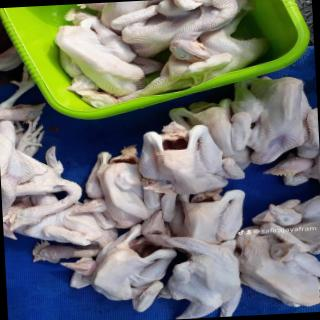Ayam: (1, 73, 320, 320), (48, 1, 277, 112)
